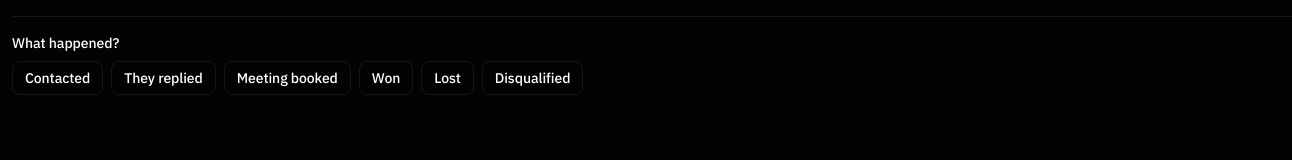
Test: OutcomeForm › offers every stage and narrates what a win taught
Click the button with test id "outcome-won": x=386, y=78 [359,61,413,95]
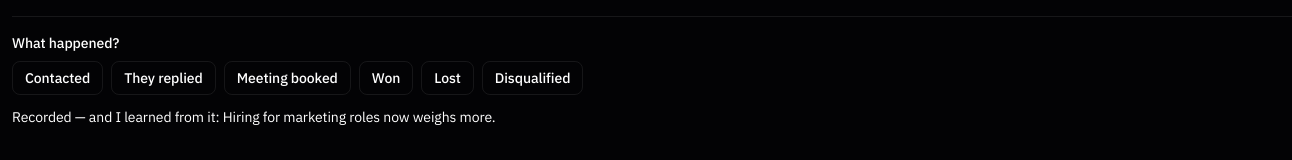
Check: the text with test id "outcome-note" shows "I learned from it", box [12,108,495,126]
Check: the text with test id "outcome-note" shows "Hiring for marketing roles", box [12,108,495,126]
